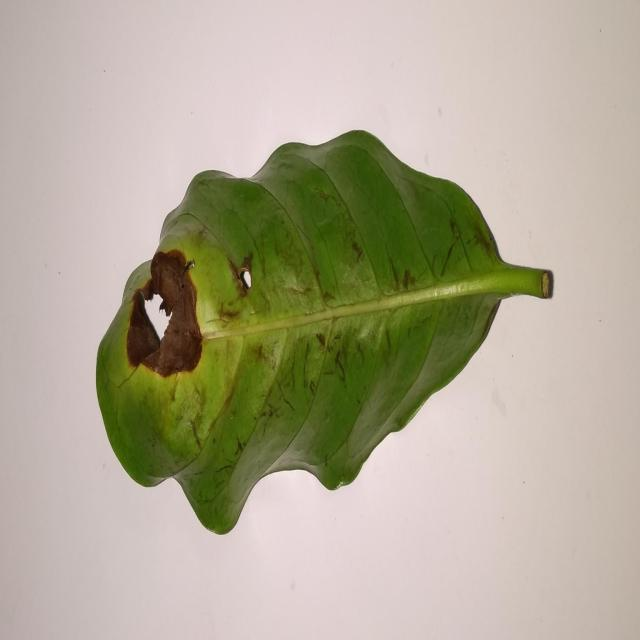Enfermedad-Antracnosis: (94, 131, 555, 539)
